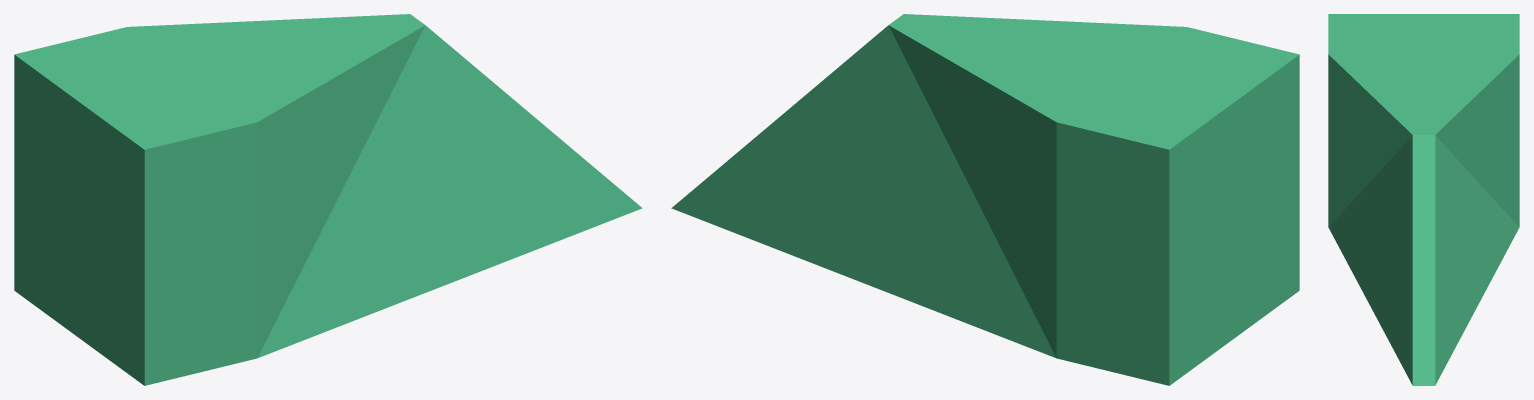
File: gm_sharp_angle.dae
3 views of the same model, side by side, from view 1: azimuth 30°, elevation 25°; view 2: azimuth 150°, elevation 25°; view 3: azimuth 270°, elevation 25° (orthographic). The views are drawn at different scales.
Visible parts, largest first — view 1: Colmesh-1; view 2: Colmesh-1; view 3: Colmesh-1.
Part boxes in pixels (x1,y1,x2,y2): Colmesh-1: (14,14,642,385); Colmesh-1: (671,14,1299,385); Colmesh-1: (1328,14,1519,385).
Size of the model in its own units: 4.93 by 2 by 2.
